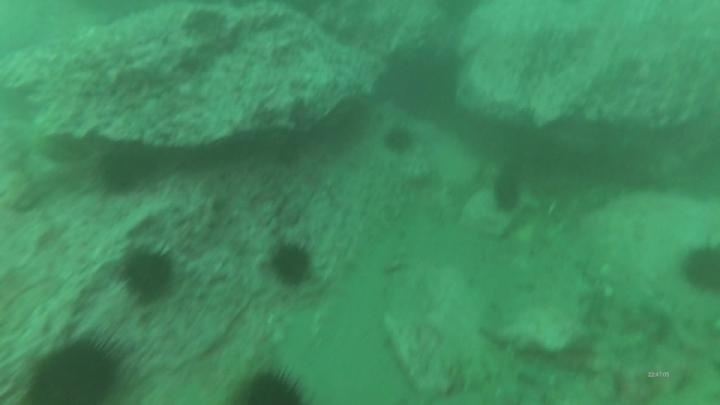echinus: (25, 331, 128, 405), (379, 44, 462, 122), (116, 240, 180, 306), (93, 142, 161, 197), (232, 365, 312, 405), (678, 239, 720, 297), (267, 240, 316, 288), (489, 169, 525, 217), (380, 124, 417, 157)
